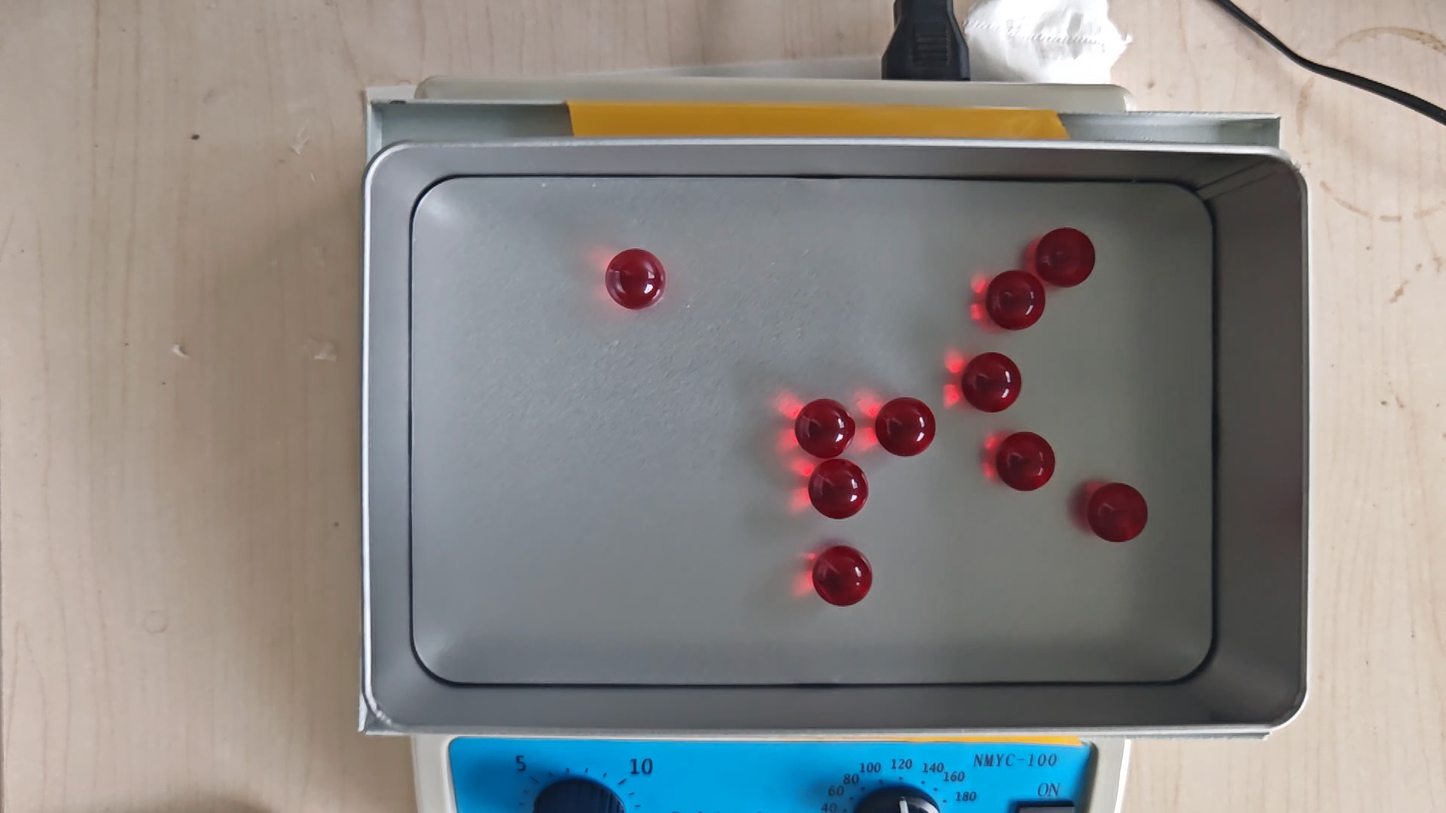ball: (1087, 481, 1148, 543), (812, 545, 873, 607), (606, 248, 666, 310), (962, 351, 1022, 413), (809, 459, 871, 519), (1036, 227, 1096, 288), (996, 431, 1056, 491), (876, 397, 936, 457), (986, 270, 1045, 331), (795, 398, 854, 458)
container: (410, 177, 1215, 685)
